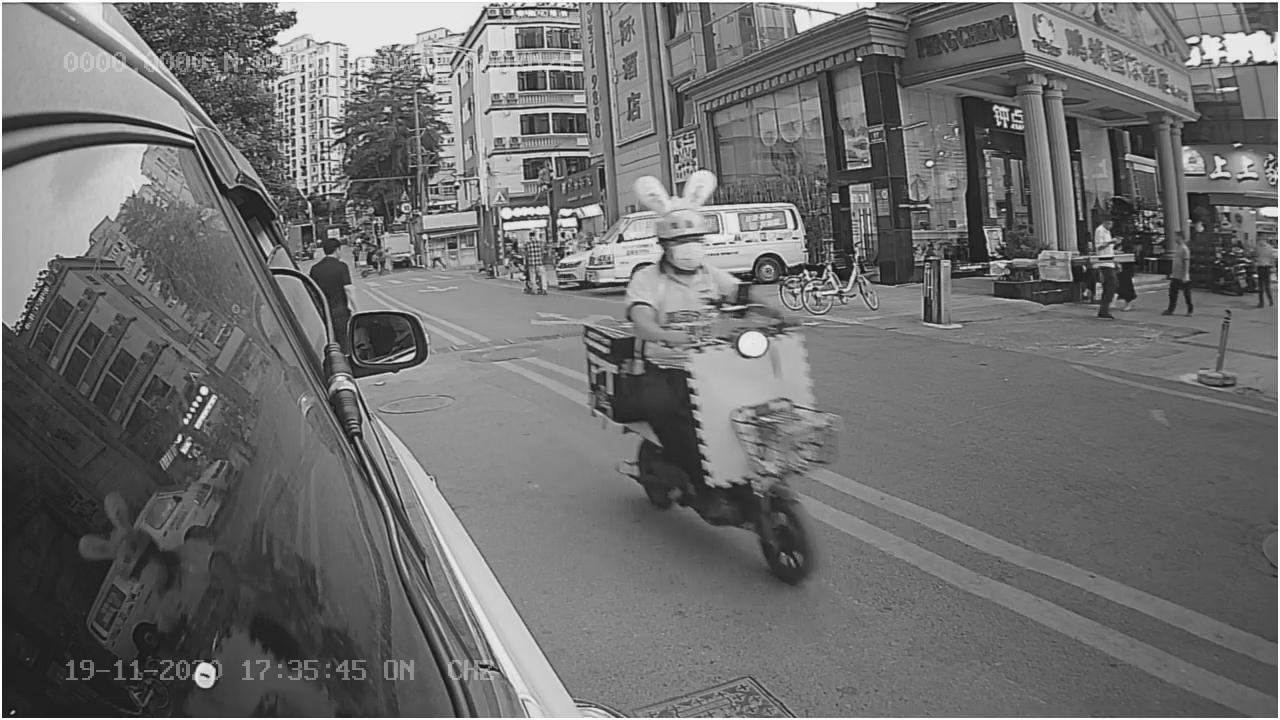person: (619, 217, 751, 317)
